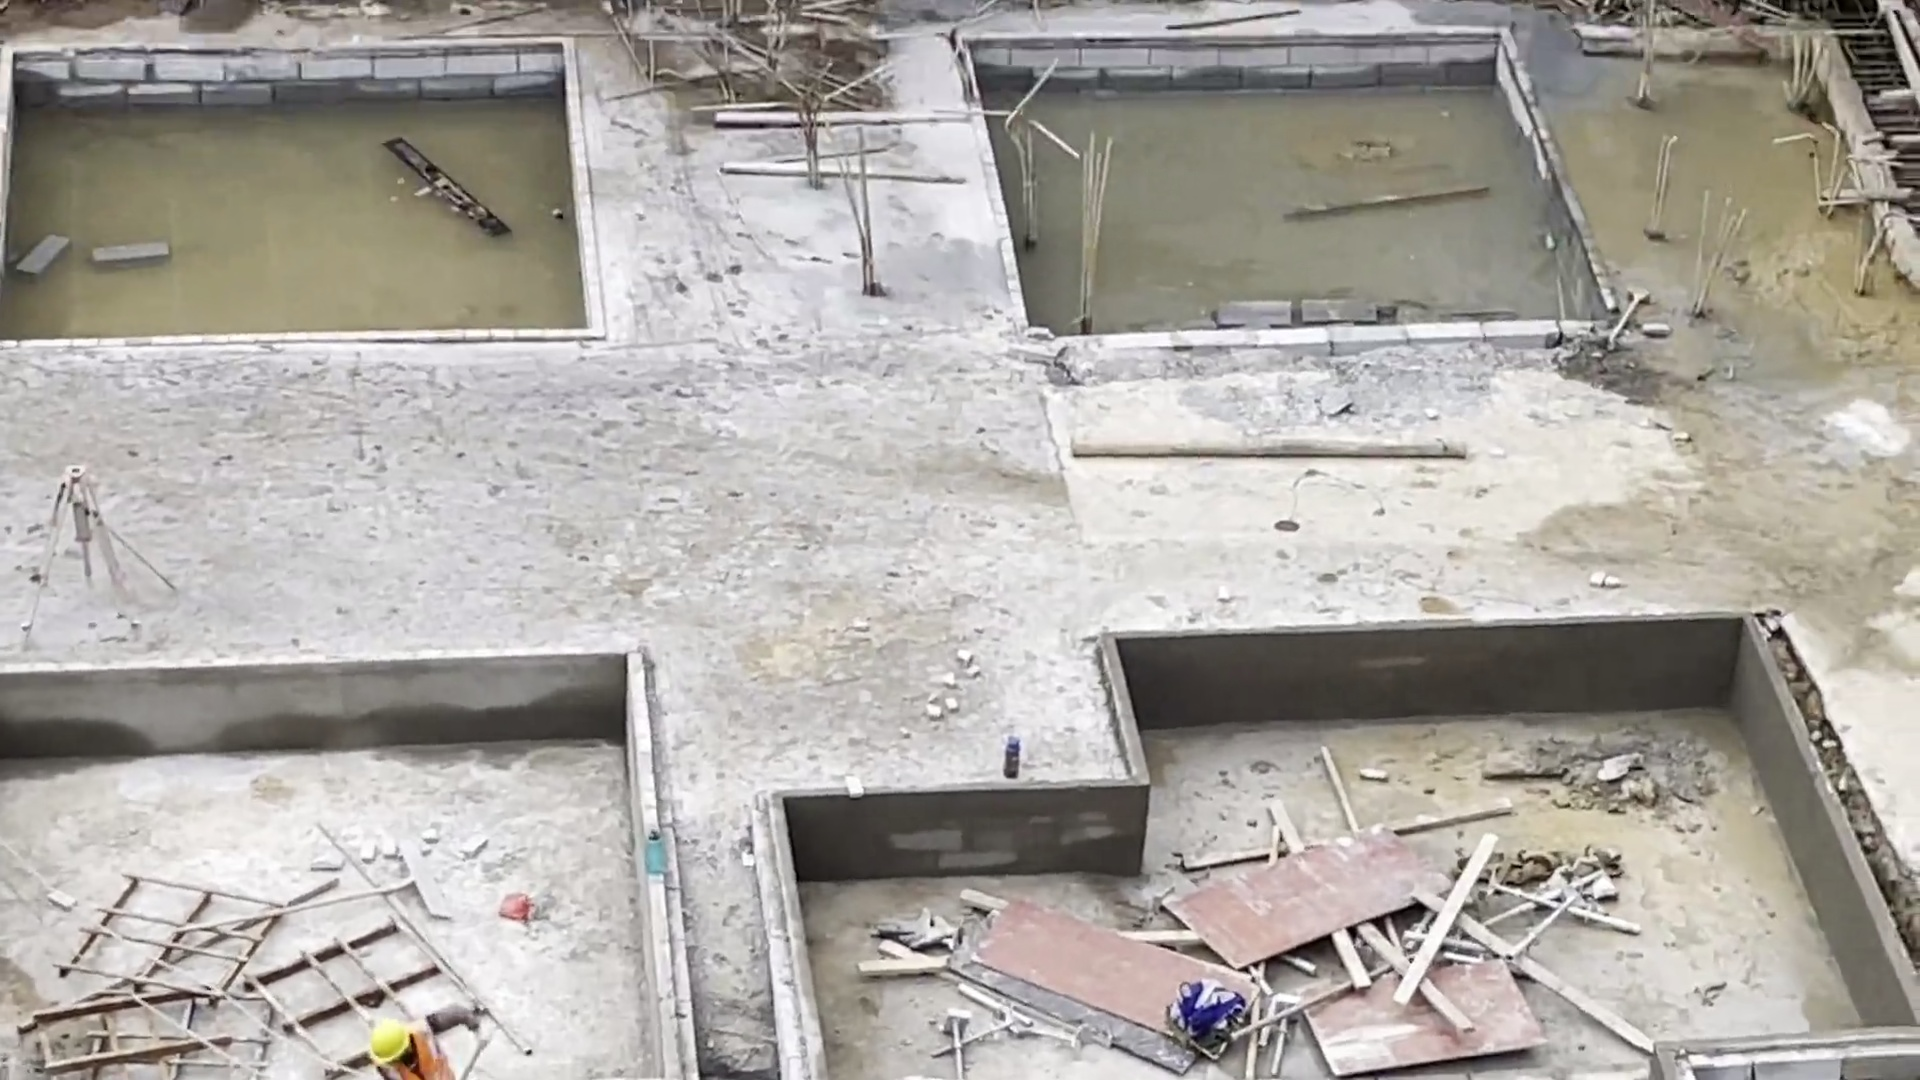helmet: (364, 1018, 412, 1069)
person: (367, 1005, 482, 1080)
vest: (399, 1028, 458, 1080)
